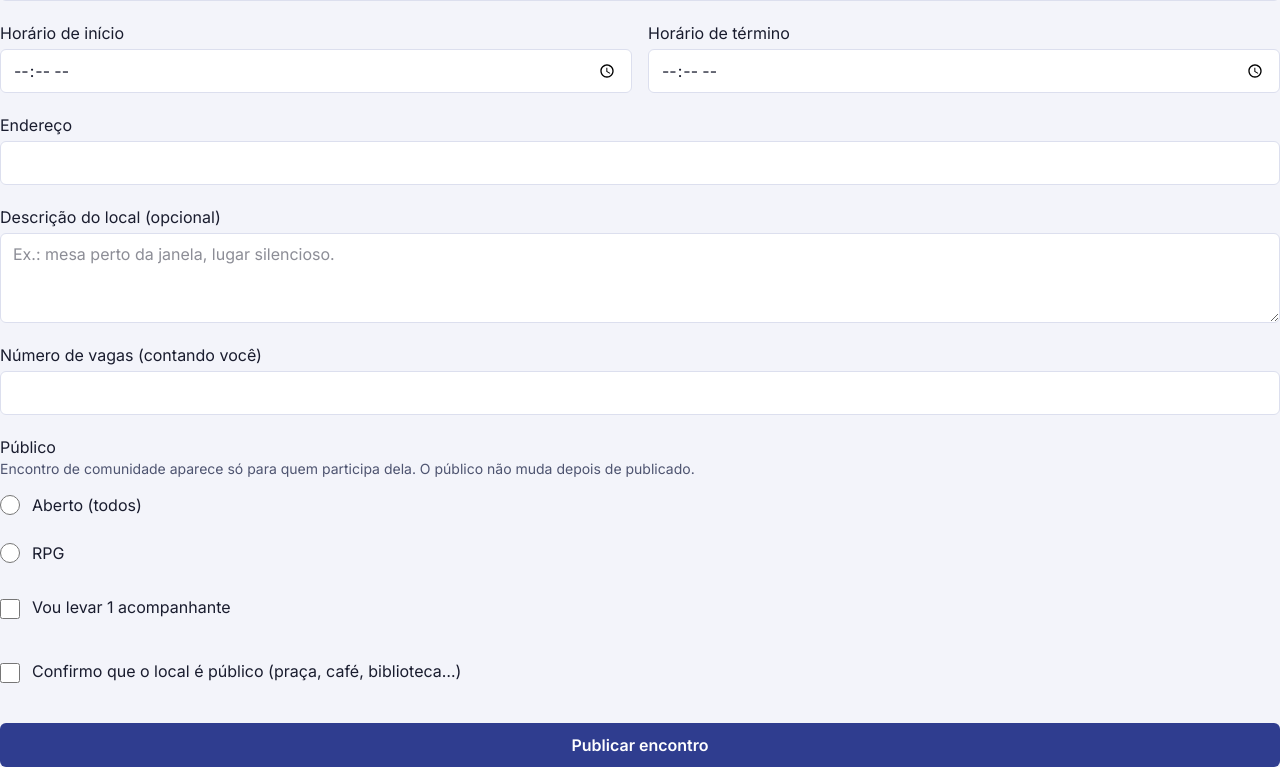
tela /encontros/novo › mostra os erros junto dos campos e não abre a confirmação
(page scrolled)
Click the button "Publicar encontro" at (640, 745), box [0, 723, 1279, 766]
(page scrolled)
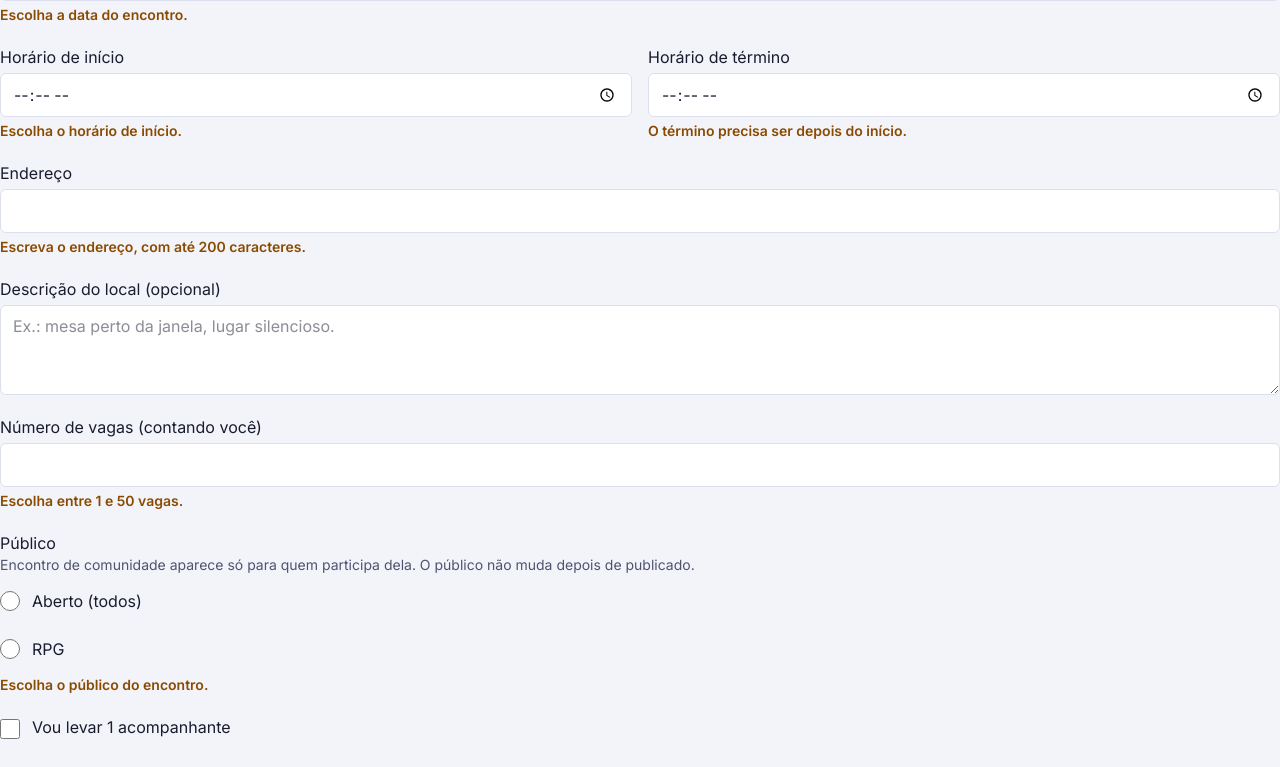
Now the text "Escolha o público do encontro." is shown, box [0, 676, 208, 693]
